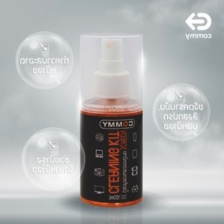cleaning_solution: (77, 30, 147, 210)
